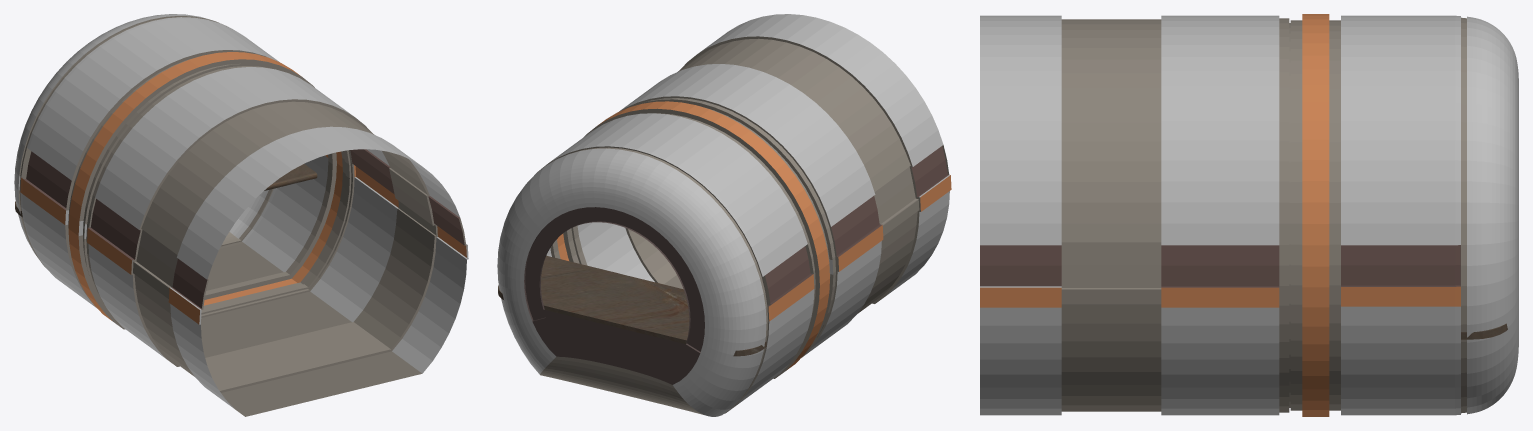
File: shel&table.fbx
3 views of the same model, side by side, from view 1: azimuth 30°, elevation 25°; view 2: azimuth 150°, elevation 25°; view 3: azimuth 270°, elevation 25° (orthographic). The views are drawn at different scales.
Parts seen in each view (by area): view 1: scene; view 2: scene; view 3: scene.
Part boxes in pixels (x1,y1,x2,y2): scene: (14,14,468,416); scene: (497,14,951,416); scene: (980,14,1518,416).
Size of the model in its own units: 1660 by 1444 by 2162.
Materials: 7 (1 with a texture image).
